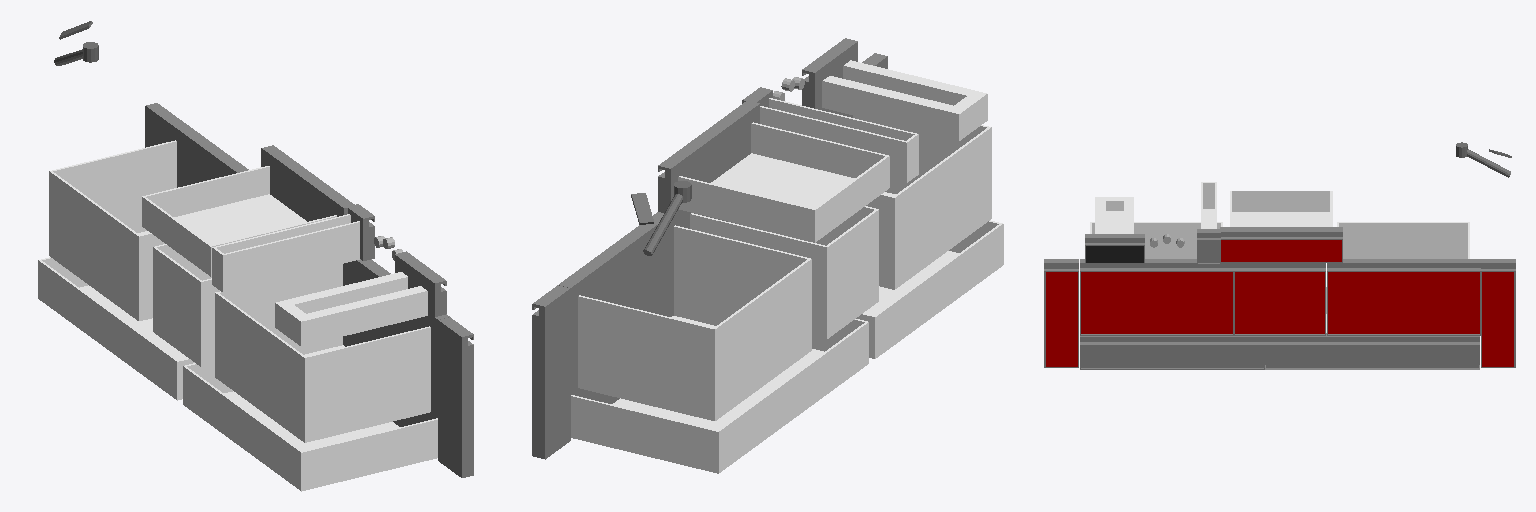
--- Facts derived from the render (not from the file) ---
Views: 3 orthographic renders of the robot side by side, from view 1: azimuth 30°, elevation 25°; view 2: azimuth 150°, elevation 25°; view 3: azimuth 270°, elevation 25°.
Model room602-kitchen with 19 links and 18 joints (7 revolute, 11 prismatic), rooted at ROOT_link, posed every joint at zero.
Links seen in each view (by area): view 1: ROOM602-KITCHEN-BODYSET6_link, ROOM602-KITCHEN-BODYSET8_link, ROOM602-KITCHEN-BODYSET10_link, ROOM602-KITCHEN-BODYSET2_link, ROOM602-KITCHEN-BODYSET11_link, ROOM602-KITCHEN-BODYSET9_link, ROOM602-KITCHEN-BODYSET3_link, ROOM602-KITCHEN-BODYSET7_link, ROOM602-KITCHEN-BODYSET4_link, ROOM602-KITCHEN-BODYSET5_link, TAP-TUBE_link; view 2: ROOM602-KITCHEN-BODYSET8_link, ROOM602-KITCHEN-BODYSET10_link, ROOM602-KITCHEN-BODYSET3_link, ROOM602-KITCHEN-BODYSET6_link, ROOM602-KITCHEN-BODYSET11_link, ROOM602-KITCHEN-BODYSET7_link, ROOM602-KITCHEN-BODYSET2_link, ROOM602-KITCHEN-BODYSET5_link, ROOM602-KITCHEN-BODYSET9_link, TAP-TUBE_link; view 3: ROOM602-KITCHEN-BODYSET8_link, ROOM602-KITCHEN-BODYSET6_link, ROOM602-KITCHEN-BODYSET10_link, ROOM602-KITCHEN-BODYSET3_link, ROOM602-KITCHEN-BODYSET7_link, ROOM602-KITCHEN-BODYSET2_link, ROOM602-KITCHEN-BODYSET4_link, ROOM602-KITCHEN-BODYSET5_link, ROOM602-KITCHEN-BODYSET11_link, ROOM602-KITCHEN-BODYSET9_link.
Link boxes in pixels (x1,y1,x2,y2): ROOM602-KITCHEN-BODYSET6_link: [215, 259, 449, 442]; ROOM602-KITCHEN-BODYSET8_link: [49, 120, 248, 320]; ROOM602-KITCHEN-BODYSET10_link: [142, 145, 355, 276]; ROOM602-KITCHEN-BODYSET2_link: [183, 363, 437, 491]; ROOM602-KITCHEN-BODYSET11_link: [275, 251, 446, 346]; ROOM602-KITCHEN-BODYSET9_link: [212, 204, 374, 292]; ROOM602-KITCHEN-BODYSET3_link: [38, 257, 194, 400]; ROOM602-KITCHEN-BODYSET7_link: [153, 244, 219, 366]; ROOM602-KITCHEN-BODYSET4_link: [438, 317, 473, 477]; ROOM602-KITCHEN-BODYSET5_link: [145, 103, 179, 147]; TAP-TUBE_link: [54, 42, 98, 65]; ROOM602-KITCHEN-BODYSET8_link: [559, 209, 811, 420]; ROOM602-KITCHEN-BODYSET10_link: [658, 100, 889, 242]; ROOM602-KITCHEN-BODYSET3_link: [571, 319, 868, 473]; ROOM602-KITCHEN-BODYSET6_link: [817, 107, 991, 289]; ROOM602-KITCHEN-BODYSET11_link: [802, 38, 987, 140]; ROOM602-KITCHEN-BODYSET7_link: [683, 206, 878, 338]; ROOM602-KITCHEN-BODYSET2_link: [856, 220, 1003, 358]; ROOM602-KITCHEN-BODYSET5_link: [532, 285, 570, 459]; ROOM602-KITCHEN-BODYSET9_link: [742, 87, 918, 182]; TAP-TUBE_link: [643, 181, 691, 255]; ROOM602-KITCHEN-BODYSET8_link: [1327, 222, 1480, 335]; ROOM602-KITCHEN-BODYSET6_link: [1080, 222, 1233, 335]; ROOM602-KITCHEN-BODYSET10_link: [1220, 191, 1342, 262]; ROOM602-KITCHEN-BODYSET3_link: [1265, 287, 1479, 369]; ROOM602-KITCHEN-BODYSET7_link: [1234, 263, 1325, 335]; ROOM602-KITCHEN-BODYSET2_link: [1080, 336, 1264, 369]; ROOM602-KITCHEN-BODYSET4_link: [1044, 259, 1078, 367]; ROOM602-KITCHEN-BODYSET5_link: [1481, 259, 1515, 367]; ROOM602-KITCHEN-BODYSET11_link: [1085, 197, 1144, 262]; ROOM602-KITCHEN-BODYSET9_link: [1197, 182, 1220, 263].
Size in the robot's own frame: 0.625 by 2.3 by 1.01 metres.
18 mesh visuals loaded from 19 distinct referenced files (18 Collada DAE); not drawn: 1 (reference not matched to a file when rendering).

robot.urdf — room602-kitchen:
<?xml version="1.0"?>
<robot name="room602-kitchen"
       xmlns:xi="http://www.w3.org/2001/XInclude">
  <gazebo>
    <static>false</static>
  </gazebo>
  <link name="ROOT_link">
    <visual>
      <origin xyz="0 0 0" rpy="0 -0 0"/>
      <geometry>
        <mesh filename="model://room602-kitchen/meshes/ROOT_link_mesh.dae" scale="1 1 1" />
      </geometry>
    </visual>
    <collision>
      <origin xyz="0 0 0" rpy="0 -0 0"/>
      <geometry>
        <mesh filename="model://room602-kitchen/meshes/ROOT_link_mesh.dae" scale="1 1 1" />
      </geometry>
    </collision>
    <inertial>
      <mass value="0.001" />
      <origin xyz="0 0 0" rpy="0 -0 0"/>
      <inertia ixx="1e-03" ixy="0" ixz="0" iyy="1e-03" iyz="0" izz="1e-03"/>
    </inertial>
  </link>
  <gazebo reference="ROOT_link">
    <mu1>0.9</mu1>
    <mu2>0.9</mu2>
  </gazebo>
  <link name="ROOM602-KITCHEN-BODYSET16_link">
    <visual>
      <origin xyz="0.34 -0.485 0.73" rpy="0 -0 0"/>
      <geometry>
        <mesh filename="model://room602-kitchen/meshes/ROOM602-KITCHEN-BODYSET16_link_mesh.dae" scale="1 1 1" />
      </geometry>
    </visual>
    <collision>
      <origin xyz="0.34 -0.485 0.73" rpy="0 -0 0"/>
      <geometry>
        <mesh filename="model://room602-kitchen/meshes/ROOM602-KITCHEN-BODYSET16_link_mesh.dae" scale="1 1 1" />
      </geometry>
    </collision>
    <inertial>
      <mass value="0.001" />
      <origin xyz="0 0 0" rpy="0 -0 0"/>
      <inertia ixx="1e-03" ixy="0" ixz="0" iyy="1e-03" iyz="0" izz="1e-03"/>
    </inertial>
  </link>
  <gazebo reference="ROOM602-KITCHEN-BODYSET16_link">
    <mu1>0.9</mu1>
    <mu2>0.9</mu2>
  </gazebo>
  <link name="ROOM602-KITCHEN-BODYSET17_link">
    <visual>
      <origin xyz="0.005 0 0" rpy="1.5708 1.5708 -1.5708"/>
      <geometry>
        <mesh filename="model://room602-kitchen/meshes/ROOM602-KITCHEN-BODYSET17_link_mesh.dae" scale="1 1 1" />
      </geometry>
    </visual>
    <collision>
      <origin xyz="0.005 0 0" rpy="1.5708 1.5708 -1.5708"/>
      <geometry>
        <mesh filename="model://room602-kitchen/meshes/ROOM602-KITCHEN-BODYSET17_link_mesh.dae" scale="1 1 1" />
      </geometry>
    </collision>
    <inertial>
      <mass value="0.001" />
      <origin xyz="0 0 0" rpy="0 -0 0"/>
      <inertia ixx="1e-09" ixy="1.30934e-41" ixz="0" iyy="1e-09" iyz="-2.29589e-41" izz="1e-09"/>
    </inertial>
  </link>
  <gazebo reference="ROOM602-KITCHEN-BODYSET17_link">
    <mu1>0.9</mu1>
    <mu2>0.9</mu2>
  </gazebo>
  <link name="ROOM602-KITCHEN-BODYSET14_link">
    <visual>
      <origin xyz="0.34 -0.55 0.75" rpy="0 -0 0"/>
      <geometry>
        <mesh filename="model://room602-kitchen/meshes/ROOM602-KITCHEN-BODYSET14_link_mesh.dae" scale="1 1 1" />
      </geometry>
    </visual>
    <collision>
      <origin xyz="0.34 -0.55 0.75" rpy="0 -0 0"/>
      <geometry>
        <mesh filename="model://room602-kitchen/meshes/ROOM602-KITCHEN-BODYSET14_link_mesh.dae" scale="1 1 1" />
      </geometry>
    </collision>
    <inertial>
      <mass value="0.001" />
      <origin xyz="0 0 0" rpy="0 -0 0"/>
      <inertia ixx="1e-03" ixy="0" ixz="0" iyy="1e-03" iyz="0" izz="1e-03"/>
    </inertial>
  </link>
  <gazebo reference="ROOM602-KITCHEN-BODYSET14_link">
    <mu1>0.9</mu1>
    <mu2>0.9</mu2>
  </gazebo>
  <link name="ROOM602-KITCHEN-BODYSET15_link">
    <visual>
      <origin xyz="0.005 0 0" rpy="1.5708 1.5708 -1.5708"/>
      <geometry>
        <mesh filename="model://room602-kitchen/meshes/ROOM602-KITCHEN-BODYSET15_link_mesh.dae" scale="1 1 1" />
      </geometry>
    </visual>
    <collision>
      <origin xyz="0.005 0 0" rpy="1.5708 1.5708 -1.5708"/>
      <geometry>
        <mesh filename="model://room602-kitchen/meshes/ROOM602-KITCHEN-BODYSET15_link_mesh.dae" scale="1 1 1" />
      </geometry>
    </collision>
    <inertial>
      <mass value="0.001" />
      <origin xyz="0 0 0" rpy="0 -0 0"/>
      <inertia ixx="1e-09" ixy="1.30934e-41" ixz="0" iyy="1e-09" iyz="-2.29589e-41" izz="1e-09"/>
    </inertial>
  </link>
  <gazebo reference="ROOM602-KITCHEN-BODYSET15_link">
    <mu1>0.9</mu1>
    <mu2>0.9</mu2>
  </gazebo>
  <link name="ROOM602-KITCHEN-BODYSET12_link">
    <visual>
      <origin xyz="0.34 -0.615 0.73" rpy="0 -0 0"/>
      <geometry>
        <mesh filename="model://room602-kitchen/meshes/ROOM602-KITCHEN-BODYSET12_link_mesh.dae" scale="1 1 1" />
      </geometry>
    </visual>
    <collision>
      <origin xyz="0.34 -0.615 0.73" rpy="0 -0 0"/>
      <geometry>
        <mesh filename="model://room602-kitchen/meshes/ROOM602-KITCHEN-BODYSET12_link_mesh.dae" scale="1 1 1" />
      </geometry>
    </collision>
    <inertial>
      <mass value="0.001" />
      <origin xyz="0 0 0" rpy="0 -0 0"/>
      <inertia ixx="1e-03" ixy="0" ixz="0" iyy="1e-03" iyz="0" izz="1e-03"/>
    </inertial>
  </link>
  <gazebo reference="ROOM602-KITCHEN-BODYSET12_link">
    <mu1>0.9</mu1>
    <mu2>0.9</mu2>
  </gazebo>
  <link name="ROOM602-KITCHEN-BODYSET13_link">
    <visual>
      <origin xyz="0.005 0 0" rpy="1.5708 1.5708 -1.5708"/>
      <geometry>
        <mesh filename="model://room602-kitchen/meshes/ROOM602-KITCHEN-BODYSET13_link_mesh.dae" scale="1 1 1" />
      </geometry>
    </visual>
    <collision>
      <origin xyz="0.005 0 0" rpy="1.5708 1.5708 -1.5708"/>
      <geometry>
        <mesh filename="model://room602-kitchen/meshes/ROOM602-KITCHEN-BODYSET13_link_mesh.dae" scale="1 1 1" />
      </geometry>
    </collision>
    <inertial>
      <mass value="0.001" />
      <origin xyz="0 0 0" rpy="0 -0 0"/>
      <inertia ixx="1e-09" ixy="1.30934e-41" ixz="0" iyy="1e-09" iyz="-2.29589e-41" izz="1e-09"/>
    </inertial>
  </link>
  <gazebo reference="ROOM602-KITCHEN-BODYSET13_link">
    <mu1>0.9</mu1>
    <mu2>0.9</mu2>
  </gazebo>
  <link name="ROOM602-KITCHEN-BODYSET7_link">
    <visual>
      <origin xyz="0.025 0.001 0.405" rpy="0 -0 0"/>
      <geometry>
        <mesh filename="model://room602-kitchen/meshes/ROOM602-KITCHEN-BODYSET7_link_mesh.dae" scale="1 1 1" />
      </geometry>
    </visual>
    <collision>
      <origin xyz="0.025 0.001 0.405" rpy="0 -0 0"/>
      <geometry>
        <mesh filename="model://room602-kitchen/meshes/ROOM602-KITCHEN-BODYSET7_link_mesh.dae" scale="1 1 1" />
      </geometry>
    </collision>
    <inertial>
      <mass value="0.001" />
      <origin xyz="0 0 0" rpy="0 -0 0"/>
      <inertia ixx="1e-03" ixy="0" ixz="0" iyy="1e-03" iyz="0" izz="1e-03"/>
    </inertial>
  </link>
  <gazebo reference="ROOM602-KITCHEN-BODYSET7_link">
    <mu1>0.9</mu1>
    <mu2>0.9</mu2>
  </gazebo>
  <link name="ROOM602-KITCHEN-BODYSET10_link">
    <visual>
      <origin xyz="0.025 0.006 0.685" rpy="0 -0 0"/>
      <geometry>
        <mesh filename="model://room602-kitchen/meshes/ROOM602-KITCHEN-BODYSET10_link_mesh.dae" scale="1 1 1" />
      </geometry>
    </visual>
    <collision>
      <origin xyz="0.025 0.006 0.685" rpy="0 -0 0"/>
      <geometry>
        <mesh filename="model://room602-kitchen/meshes/ROOM602-KITCHEN-BODYSET10_link_mesh.dae" scale="1 1 1" />
      </geometry>
    </collision>
    <inertial>
      <mass value="0.001" />
      <origin xyz="0 0 0" rpy="0 -0 0"/>
      <inertia ixx="1e-03" ixy="0" ixz="0" iyy="1e-03" iyz="0" izz="1e-03"/>
    </inertial>
  </link>
  <gazebo reference="ROOM602-KITCHEN-BODYSET10_link">
    <mu1>0.9</mu1>
    <mu2>0.9</mu2>
  </gazebo>
  <link name="ROOM602-KITCHEN-BODYSET11_link">
    <visual>
      <origin xyz="0.025 -0.805 0.66" rpy="0 -0 0"/>
      <geometry>
        <mesh filename="model://room602-kitchen/meshes/ROOM602-KITCHEN-BODYSET11_link_mesh.dae" scale="1 1 1" />
      </geometry>
    </visual>
    <collision>
      <origin xyz="0.025 -0.805 0.66" rpy="0 -0 0"/>
      <geometry>
        <mesh filename="model://room602-kitchen/meshes/ROOM602-KITCHEN-BODYSET11_link_mesh.dae" scale="1 1 1" />
      </geometry>
    </collision>
    <inertial>
      <mass value="0.001" />
      <origin xyz="0 0 0" rpy="0 -0 0"/>
      <inertia ixx="1e-03" ixy="0" ixz="0" iyy="1e-03" iyz="0" izz="1e-03"/>
    </inertial>
  </link>
  <gazebo reference="ROOM602-KITCHEN-BODYSET11_link">
    <mu1>0.9</mu1>
    <mu2>0.9</mu2>
  </gazebo>
  <link name="ROOM602-KITCHEN-BODYSET2_link">
    <visual>
      <origin xyz="0.025 -0.524 0.137" rpy="0 -0 0"/>
      <geometry>
        <mesh filename="model://room602-kitchen/meshes/ROOM602-KITCHEN-BODYSET2_link_mesh.dae" scale="1 1 1" />
      </geometry>
    </visual>
    <collision>
      <origin xyz="0.025 -0.524 0.137" rpy="0 -0 0"/>
      <geometry>
        <mesh filename="model://room602-kitchen/meshes/ROOM602-KITCHEN-BODYSET2_link_mesh.dae" scale="1 1 1" />
      </geometry>
    </collision>
    <inertial>
      <mass value="0.001" />
      <origin xyz="0 0 0" rpy="0 -0 0"/>
      <inertia ixx="1e-03" ixy="0" ixz="0" iyy="1e-03" iyz="0" izz="1e-03"/>
    </inertial>
  </link>
  <gazebo reference="ROOM602-KITCHEN-BODYSET2_link">
    <mu1>0.9</mu1>
    <mu2>0.9</mu2>
  </gazebo>
  <link name="ROOM602-KITCHEN-BODYSET6_link">
    <visual>
      <origin xyz="0.025 -0.601 0.405" rpy="0 -0 0"/>
      <geometry>
        <mesh filename="model://room602-kitchen/meshes/ROOM602-KITCHEN-BODYSET6_link_mesh.dae" scale="1 1 1" />
      </geometry>
    </visual>
    <collision>
      <origin xyz="0.025 -0.601 0.405" rpy="0 -0 0"/>
      <geometry>
        <mesh filename="model://room602-kitchen/meshes/ROOM602-KITCHEN-BODYSET6_link_mesh.dae" scale="1 1 1" />
      </geometry>
    </collision>
    <inertial>
      <mass value="0.001" />
      <origin xyz="0 0 0" rpy="0 -0 0"/>
      <inertia ixx="1e-03" ixy="0" ixz="0" iyy="1e-03" iyz="0" izz="1e-03"/>
    </inertial>
  </link>
  <gazebo reference="ROOM602-KITCHEN-BODYSET6_link">
    <mu1>0.9</mu1>
    <mu2>0.9</mu2>
  </gazebo>
  <link name="ROOM602-KITCHEN-BODYSET4_link">
    <visual>
      <origin xyz="0.315 -1.123 0.06" rpy="0 -0 0"/>
      <geometry>
        <mesh filename="model://room602-kitchen/meshes/ROOM602-KITCHEN-BODYSET4_link_mesh.dae" scale="1 1 1" />
      </geometry>
    </visual>
    <collision>
      <origin xyz="0.315 -1.123 0.06" rpy="0 -0 0"/>
      <geometry>
        <mesh filename="model://room602-kitchen/meshes/ROOM602-KITCHEN-BODYSET4_link_mesh.dae" scale="1 1 1" />
      </geometry>
    </collision>
    <inertial>
      <mass value="0.001" />
      <origin xyz="0 0 0" rpy="0 -0 0"/>
      <inertia ixx="1e-03" ixy="0" ixz="0" iyy="1e-03" iyz="0" izz="1e-03"/>
    </inertial>
  </link>
  <gazebo reference="ROOM602-KITCHEN-BODYSET4_link">
    <mu1>0.9</mu1>
    <mu2>0.9</mu2>
  </gazebo>
  <link name="ROOM602-KITCHEN-BODYSET9_link">
    <visual>
      <origin xyz="0.025 -0.346 0.7" rpy="0 -0 0"/>
      <geometry>
        <mesh filename="model://room602-kitchen/meshes/ROOM602-KITCHEN-BODYSET9_link_mesh.dae" scale="1 1 1" />
      </geometry>
    </visual>
    <collision>
      <origin xyz="0.025 -0.346 0.7" rpy="0 -0 0"/>
      <geometry>
        <mesh filename="model://room602-kitchen/meshes/ROOM602-KITCHEN-BODYSET9_link_mesh.dae" scale="1 1 1" />
      </geometry>
    </collision>
    <inertial>
      <mass value="0.001" />
      <origin xyz="0 0 0" rpy="0 -0 0"/>
      <inertia ixx="1e-03" ixy="0" ixz="0" iyy="1e-03" iyz="0" izz="1e-03"/>
    </inertial>
  </link>
  <gazebo reference="ROOM602-KITCHEN-BODYSET9_link">
    <mu1>0.9</mu1>
    <mu2>0.9</mu2>
  </gazebo>
  <link name="ROOM602-KITCHEN-BODYSET3_link">
    <visual>
      <origin xyz="0.025 0.451 0.137" rpy="0 -0 0"/>
      <geometry>
        <mesh filename="model://room602-kitchen/meshes/ROOM602-KITCHEN-BODYSET3_link_mesh.dae" scale="1 1 1" />
      </geometry>
    </visual>
    <collision>
      <origin xyz="0.025 0.451 0.137" rpy="0 -0 0"/>
      <geometry>
        <mesh filename="model://room602-kitchen/meshes/ROOM602-KITCHEN-BODYSET3_link_mesh.dae" scale="1 1 1" />
      </geometry>
    </collision>
    <inertial>
      <mass value="0.001" />
      <origin xyz="0 0 0" rpy="0 -0 0"/>
      <inertia ixx="1e-03" ixy="0" ixz="0" iyy="1e-03" iyz="0" izz="1e-03"/>
    </inertial>
  </link>
  <gazebo reference="ROOM602-KITCHEN-BODYSET3_link">
    <mu1>0.9</mu1>
    <mu2>0.9</mu2>
  </gazebo>
  <link name="ROOM602-KITCHEN-BODYSET8_link">
    <visual>
      <origin xyz="0.025 0.603 0.405" rpy="0 -0 0"/>
      <geometry>
        <mesh filename="model://room602-kitchen/meshes/ROOM602-KITCHEN-BODYSET8_link_mesh.dae" scale="1 1 1" />
      </geometry>
    </visual>
    <collision>
      <origin xyz="0.025 0.603 0.405" rpy="0 -0 0"/>
      <geometry>
        <mesh filename="model://room602-kitchen/meshes/ROOM602-KITCHEN-BODYSET8_link_mesh.dae" scale="1 1 1" />
      </geometry>
    </collision>
    <inertial>
      <mass value="0.001" />
      <origin xyz="0 0 0" rpy="0 -0 0"/>
      <inertia ixx="1e-03" ixy="0" ixz="0" iyy="1e-03" iyz="0" izz="1e-03"/>
    </inertial>
  </link>
  <gazebo reference="ROOM602-KITCHEN-BODYSET8_link">
    <mu1>0.9</mu1>
    <mu2>0.9</mu2>
  </gazebo>
  <link name="ROOM602-KITCHEN-BODYSET5_link">
    <visual>
      <origin xyz="0.315 1.123 0.06" rpy="0 -0 0"/>
      <geometry>
        <mesh filename="model://room602-kitchen/meshes/ROOM602-KITCHEN-BODYSET5_link_mesh.dae" scale="1 1 1" />
      </geometry>
    </visual>
    <collision>
      <origin xyz="0.315 1.123 0.06" rpy="0 -0 0"/>
      <geometry>
        <mesh filename="model://room602-kitchen/meshes/ROOM602-KITCHEN-BODYSET5_link_mesh.dae" scale="1 1 1" />
      </geometry>
    </collision>
    <inertial>
      <mass value="0.001" />
      <origin xyz="0 0 0" rpy="0 -0 0"/>
      <inertia ixx="1e-03" ixy="0" ixz="0" iyy="1e-03" iyz="0" izz="1e-03"/>
    </inertial>
  </link>
  <gazebo reference="ROOM602-KITCHEN-BODYSET5_link">
    <mu1>0.9</mu1>
    <mu2>0.9</mu2>
  </gazebo>
  <link name="TAP-HANDLE-BODY_link">
    <visual>
      <origin xyz="-0.0826664 1.11267 1.00531" rpy="1.26878e-07 -0.488693 -0.785399"/>
      <geometry>
        <mesh filename="model://room602-kitchen/meshes/TAP-HANDLE-BODY_link_mesh.dae" scale="1 1 1" />
      </geometry>
    </visual>
    <collision>
      <origin xyz="-0.0826664 1.11267 1.00531" rpy="1.26878e-07 -0.488693 -0.785399"/>
      <geometry>
        <mesh filename="model://room602-kitchen/meshes/TAP-HANDLE-BODY_link_mesh.dae" scale="1 1 1" />
      </geometry>
    </collision>
    <inertial>
      <mass value="0.001" />
      <origin xyz="0 0 0" rpy="0 -0 0"/>
      <inertia ixx="1e-09" ixy="-1.40233e-32" ixz="0" iyy="1e-09" iyz="-9.86076e-32" izz="1e-09"/>
    </inertial>
  </link>
  <gazebo reference="TAP-HANDLE-BODY_link">
    <mu1>0.9</mu1>
    <mu2>0.9</mu2>
  </gazebo>
  <link name="TAP-TUBE_link">
    <visual>
      <origin xyz="-0.09 1.12 0.84" rpy="0 0 -1.5708"/>
      <geometry>
        <mesh filename="model://room602-kitchen/meshes/TAP-TUBE_link_mesh.dae" scale="1 1 1" />
      </geometry>
    </visual>
    <collision>
      <origin xyz="-0.09 1.12 0.84" rpy="0 0 -1.5708"/>
      <geometry>
        <mesh filename="model://room602-kitchen/meshes/TAP-TUBE_link_mesh.dae" scale="1 1 1" />
      </geometry>
    </collision>
    <inertial>
      <mass value="0.001" />
      <origin xyz="0 0 0" rpy="0 -0 0"/>
      <inertia ixx="1e-09" ixy="-7.4988e-42" ixz="0" iyy="1e-09" iyz="0" izz="1e-09"/>
    </inertial>
  </link>
  <gazebo reference="TAP-TUBE_link">
    <mu1>0.9</mu1>
    <mu2>0.9</mu2>
  </gazebo>
  <joint name="BUTTON0-BODY-JOINT-1" type="prismatic">
    <parent link="ROOT_link"/>
    <child  link="ROOM602-KITCHEN-BODYSET16_link"/>
    <origin xyz="0.34 -0.485 0.73" rpy="0 -0 0 "/>
    <axis   xyz="1 0 0"/>
    <limit lower="-0.09" upper="0.09" effort="100" velocity="0.01" />
    <dynamics damping="0.2" friction="0" />
  </joint>
  <transmission type="pr2_mechanism_model/SimpleTransmission" name="BUTTON0-BODY-JOINT-1_trans" >
    <actuator name="BUTTON0-BODY-JOINT-1_motor" />
    <joint name="BUTTON0-BODY-JOINT-1" />
    <mechanicalReduction>1</mechanicalReduction>
  </transmission>
  <gazebo reference="BUTTON0-BODY-JOINT-1">
    <cfmDamping>0.4</cfmDamping>
  </gazebo>
  <joint name="BUTTON0-BODY-JOINT-2" type="revolute">
    <parent link="ROOM602-KITCHEN-BODYSET16_link"/>
    <child  link="ROOM602-KITCHEN-BODYSET17_link"/>
    <origin xyz="0.005 0 0" rpy="1.5708 1.5708 -1.5708 "/>
    <axis   xyz="0 0 1"/>
    <limit lower="-1.5708" upper="1.5708" effort="100" velocity="0.5" />
    <dynamics damping="0.2" friction="0" />
  </joint>
  <transmission type="pr2_mechanism_model/SimpleTransmission" name="BUTTON0-BODY-JOINT-2_trans" >
    <actuator name="BUTTON0-BODY-JOINT-2_motor" />
    <joint name="BUTTON0-BODY-JOINT-2" />
    <mechanicalReduction>1</mechanicalReduction>
  </transmission>
  <gazebo reference="BUTTON0-BODY-JOINT-2">
    <cfmDamping>0.4</cfmDamping>
  </gazebo>
  <joint name="BUTTON1-BODY-JOINT-1" type="prismatic">
    <parent link="ROOT_link"/>
    <child  link="ROOM602-KITCHEN-BODYSET14_link"/>
    <origin xyz="0.34 -0.55 0.75" rpy="0 -0 0 "/>
    <axis   xyz="1 0 0"/>
    <limit lower="-0.09" upper="0.09" effort="100" velocity="0.01" />
    <dynamics damping="0.2" friction="0" />
  </joint>
  <transmission type="pr2_mechanism_model/SimpleTransmission" name="BUTTON1-BODY-JOINT-1_trans" >
    <actuator name="BUTTON1-BODY-JOINT-1_motor" />
    <joint name="BUTTON1-BODY-JOINT-1" />
    <mechanicalReduction>1</mechanicalReduction>
  </transmission>
  <gazebo reference="BUTTON1-BODY-JOINT-1">
    <cfmDamping>0.4</cfmDamping>
  </gazebo>
  <joint name="BUTTON1-BODY-JOINT-2" type="revolute">
    <parent link="ROOM602-KITCHEN-BODYSET14_link"/>
    <child  link="ROOM602-KITCHEN-BODYSET15_link"/>
    <origin xyz="0.005 0 0" rpy="1.5708 1.5708 -1.5708 "/>
    <axis   xyz="0 0 1"/>
    <limit lower="-1.5708" upper="1.5708" effort="100" velocity="0.5" />
    <dynamics damping="0.2" friction="0" />
  </joint>
  <transmission type="pr2_mechanism_model/SimpleTransmission" name="BUTTON1-BODY-JOINT-2_trans" >
    <actuator name="BUTTON1-BODY-JOINT-2_motor" />
    <joint name="BUTTON1-BODY-JOINT-2" />
    <mechanicalReduction>1</mechanicalReduction>
  </transmission>
  <gazebo reference="BUTTON1-BODY-JOINT-2">
    <cfmDamping>0.4</cfmDamping>
  </gazebo>
  <joint name="BUTTON2-BODY-JOINT-1" type="prismatic">
    <parent link="ROOT_link"/>
    <child  link="ROOM602-KITCHEN-BODYSET12_link"/>
    <origin xyz="0.34 -0.615 0.73" rpy="0 -0 0 "/>
    <axis   xyz="1 0 0"/>
    <limit lower="-0.09" upper="0.09" effort="100" velocity="0.01" />
    <dynamics damping="0.2" friction="0" />
  </joint>
  <transmission type="pr2_mechanism_model/SimpleTransmission" name="BUTTON2-BODY-JOINT-1_trans" >
    <actuator name="BUTTON2-BODY-JOINT-1_motor" />
    <joint name="BUTTON2-BODY-JOINT-1" />
    <mechanicalReduction>1</mechanicalReduction>
  </transmission>
  <gazebo reference="BUTTON2-BODY-JOINT-1">
    <cfmDamping>0.4</cfmDamping>
  </gazebo>
  <joint name="BUTTON2-BODY-JOINT-2" type="revolute">
    <parent link="ROOM602-KITCHEN-BODYSET12_link"/>
    <child  link="ROOM602-KITCHEN-BODYSET13_link"/>
    <origin xyz="0.005 0 0" rpy="1.5708 1.5708 -1.5708 "/>
    <axis   xyz="0 0 1"/>
    <limit lower="-1.5708" upper="1.5708" effort="100" velocity="0.5" />
    <dynamics damping="0.2" friction="0" />
  </joint>
  <transmission type="pr2_mechanism_model/SimpleTransmission" name="BUTTON2-BODY-JOINT-2_trans" >
    <actuator name="BUTTON2-BODY-JOINT-2_motor" />
    <joint name="BUTTON2-BODY-JOINT-2" />
    <mechanicalReduction>1</mechanicalReduction>
  </transmission>
  <gazebo reference="BUTTON2-BODY-JOINT-2">
    <cfmDamping>0.4</cfmDamping>
  </gazebo>
  <joint name="CENTER-MIDDLE-DRAWER" type="prismatic">
    <parent link="ROOT_link"/>
    <child  link="ROOM602-KITCHEN-BODYSET7_link"/>
    <origin xyz="0.025 0.001 0.405" rpy="0 -0 0 "/>
    <axis   xyz="1 0 0"/>
    <limit lower="0" upper="0.63" effort="100" velocity="0.01" />
    <dynamics damping="0.2" friction="0" />
  </joint>
  <transmission type="pr2_mechanism_model/SimpleTransmission" name="CENTER-MIDDLE-DRAWER_trans" >
    <actuator name="CENTER-MIDDLE-DRAWER_motor" />
    <joint name="CENTER-MIDDLE-DRAWER" />
    <mechanicalReduction>1</mechanicalReduction>
  </transmission>
  <gazebo reference="CENTER-MIDDLE-DRAWER">
    <cfmDamping>0.4</cfmDamping>
  </gazebo>
  <joint name="CENTER-TOP-DRAWER" type="prismatic">
    <parent link="ROOT_link"/>
    <child  link="ROOM602-KITCHEN-BODYSET10_link"/>
    <origin xyz="0.025 0.006 0.685" rpy="0 -0 0 "/>
    <axis   xyz="1 0 0"/>
    <limit lower="0" upper="0.63" effort="100" velocity="0.01" />
    <dynamics damping="0.2" friction="0" />
  </joint>
  <transmission type="pr2_mechanism_model/SimpleTransmission" name="CENTER-TOP-DRAWER_trans" >
    <actuator name="CENTER-TOP-DRAWER_motor" />
    <joint name="CENTER-TOP-DRAWER" />
    <mechanicalReduction>1</mechanicalReduction>
  </transmission>
  <gazebo reference="CENTER-TOP-DRAWER">
    <cfmDamping>0.4</cfmDamping>
  </gazebo>
  <joint name="DRAWER" type="prismatic">
    <parent link="ROOT_link"/>
    <child  link="ROOM602-KITCHEN-BODYSET11_link"/>
    <origin xyz="0.025 -0.805 0.66" rpy="0 -0 0 "/>
    <axis   xyz="1 0 0"/>
    <limit lower="0" upper="0.63" effort="100" velocity="0.01" />
    <dynamics damping="0.2" friction="0" />
  </joint>
  <transmission type="pr2_mechanism_model/SimpleTransmission" name="DRAWER_trans" >
    <actuator name="DRAWER_motor" />
    <joint name="DRAWER" />
    <mechanicalReduction>1</mechanicalReduction>
  </transmission>
  <gazebo reference="DRAWER">
    <cfmDamping>0.4</cfmDamping>
  </gazebo>
  <joint name="LEFT-BOTTOM-DRAWER" type="prismatic">
    <parent link="ROOT_link"/>
    <child  link="ROOM602-KITCHEN-BODYSET2_link"/>
    <origin xyz="0.025 -0.524 0.137" rpy="0 -0 0 "/>
    <axis   xyz="1 0 0"/>
    <limit lower="0" upper="0.63" effort="100" velocity="0.01" />
    <dynamics damping="0.2" friction="0" />
  </joint>
  <transmission type="pr2_mechanism_model/SimpleTransmission" name="LEFT-BOTTOM-DRAWER_trans" >
    <actuator name="LEFT-BOTTOM-DRAWER_motor" />
    <joint name="LEFT-BOTTOM-DRAWER" />
    <mechanicalReduction>1</mechanicalReduction>
  </transmission>
  <gazebo reference="LEFT-BOTTOM-DRAWER">
    <cfmDamping>0.4</cfmDamping>
  </gazebo>
  <joint name="LEFT-MIDDLE-DRAWER" type="prismatic">
    <parent link="ROOT_link"/>
    <child  link="ROOM602-KITCHEN-BODYSET6_link"/>
    <origin xyz="0.025 -0.601 0.405" rpy="0 -0 0 "/>
    <axis   xyz="1 0 0"/>
    <limit lower="0" upper="0.63" effort="100" velocity="0.01" />
    <dynamics damping="0.2" friction="0" />
  </joint>
  <transmission type="pr2_mechanism_model/SimpleTransmission" name="LEFT-MIDDLE-DRAWER_trans" >
    <actuator name="LEFT-MIDDLE-DRAWER_motor" />
    <joint name="LEFT-MIDDLE-DRAWER" />
    <mechanicalReduction>1</mechanicalReduction>
  </transmission>
  <gazebo reference="LEFT-MIDDLE-DRAWER">
    <cfmDamping>0.4</cfmDamping>
  </gazebo>
  <joint name="LEFT-SIDE-DOOR" type="revolute">
    <parent link="ROOT_link"/>
    <child  link="ROOM602-KITCHEN-BODYSET4_link"/>
    <origin xyz="0.315 -1.123 0.06" rpy="0 -0 0 "/>
    <axis   xyz="0 0 -1"/>
    <limit lower="0" upper="1.5708" effort="100" velocity="0.5" />
    <dynamics damping="0.2" friction="0" />
  </joint>
  <transmission type="pr2_mechanism_model/SimpleTransmission" name="LEFT-SIDE-DOOR_trans" >
    <actuator name="LEFT-SIDE-DOOR_motor" />
    <joint name="LEFT-SIDE-DOOR" />
    <mechanicalReduction>1</mechanicalReduction>
  </transmission>
  <gazebo reference="LEFT-SIDE-DOOR">
    <cfmDamping>0.4</cfmDamping>
  </gazebo>
  <joint name="LEFT-TOP-DRAWER" type="prismatic">
    <parent link="ROOT_link"/>
    <child  link="ROOM602-KITCHEN-BODYSET9_link"/>
    <origin xyz="0.025 -0.346 0.7" rpy="0 -0 0 "/>
    <axis   xyz="1 0 0"/>
    <limit lower="0" upper="0.63" effort="100" velocity="0.01" />
    <dynamics damping="0.2" friction="0" />
  </joint>
  <transmission type="pr2_mechanism_model/SimpleTransmission" name="LEFT-TOP-DRAWER_trans" >
    <actuator name="LEFT-TOP-DRAWER_motor" />
    <joint name="LEFT-TOP-DRAWER" />
    <mechanicalReduction>1</mechanicalReduction>
  </transmission>
  <gazebo reference="LEFT-TOP-DRAWER">
    <cfmDamping>0.4</cfmDamping>
  </gazebo>
  <joint name="RIGHT-BOTTOM-DRAWER" type="prismatic">
    <parent link="ROOT_link"/>
    <child  link="ROOM602-KITCHEN-BODYSET3_link"/>
    <origin xyz="0.025 0.451 0.137" rpy="0 -0 0 "/>
    <axis   xyz="1 0 0"/>
    <limit lower="0" upper="0.63" effort="100" velocity="0.01" />
    <dynamics damping="0.2" friction="0" />
  </joint>
  <transmission type="pr2_mechanism_model/SimpleTransmission" name="RIGHT-BOTTOM-DRAWER_trans" >
    <actuator name="RIGHT-BOTTOM-DRAWER_motor" />
    <joint name="RIGHT-BOTTOM-DRAWER" />
    <mechanicalReduction>1</mechanicalReduction>
  </transmission>
  <gazebo reference="RIGHT-BOTTOM-DRAWER">
    <cfmDamping>0.4</cfmDamping>
  </gazebo>
  <joint name="RIGHT-MIDDLE-DRAWER" type="prismatic">
    <parent link="ROOT_link"/>
    <child  link="ROOM602-KITCHEN-BODYSET8_link"/>
    <origin xyz="0.025 0.603 0.405" rpy="0 -0 0 "/>
    <axis   xyz="1 0 0"/>
    <limit lower="0" upper="0.63" effort="100" velocity="0.01" />
    <dynamics damping="0.2" friction="0" />
  </joint>
  <transmission type="pr2_mechanism_model/SimpleTransmission" name="RIGHT-MIDDLE-DRAWER_trans" >
    <actuator name="RIGHT-MIDDLE-DRAWER_motor" />
    <joint name="RIGHT-MIDDLE-DRAWER" />
    <mechanicalReduction>1</mechanicalReduction>
  </transmission>
  <gazebo reference="RIGHT-MIDDLE-DRAWER">
    <cfmDamping>0.4</cfmDamping>
  </gazebo>
  <joint name="RIGHT-SIDE-DOOR" type="revolute">
    <parent link="ROOT_link"/>
    <child  link="ROOM602-KITCHEN-BODYSET5_link"/>
    <origin xyz="0.315 1.123 0.06" rpy="0 -0 0 "/>
    <axis   xyz="0 0 1"/>
    <limit lower="0" upper="1.5708" effort="100" velocity="0.5" />
    <dynamics damping="0.2" friction="0" />
  </joint>
  <transmission type="pr2_mechanism_model/SimpleTransmission" name="RIGHT-SIDE-DOOR_trans" >
    <actuator name="RIGHT-SIDE-DOOR_motor" />
    <joint name="RIGHT-SIDE-DOOR" />
    <mechanicalReduction>1</mechanicalReduction>
  </transmission>
  <gazebo reference="RIGHT-SIDE-DOOR">
    <cfmDamping>0.4</cfmDamping>
  </gazebo>
  <joint name="TAP-HANDLE-JOINT" type="revolute">
    <parent link="ROOT_link"/>
    <child  link="TAP-HANDLE-BODY_link"/>
    <origin xyz="-0.0826664 1.11267 1.00531" rpy="1.26878e-07 -0.488693 -0.785399 "/>
    <axis   xyz="0 1 0"/>
    <limit lower="-1.5708" upper="1.5708" effort="100" velocity="0.5" />
    <dynamics damping="0.2" friction="0" />
  </joint>
  <transmission type="pr2_mechanism_model/SimpleTransmission" name="TAP-HANDLE-JOINT_trans" >
    <actuator name="TAP-HANDLE-JOINT_motor" />
    <joint name="TAP-HANDLE-JOINT" />
    <mechanicalReduction>1</mechanicalReduction>
  </transmission>
  <gazebo reference="TAP-HANDLE-JOINT">
    <cfmDamping>0.4</cfmDamping>
  </gazebo>
  <joint name="TAP-TUBE-JOINT" type="revolute">
    <parent link="ROOT_link"/>
    <child  link="TAP-TUBE_link"/>
    <origin xyz="-0.09 1.12 0.84" rpy="0 0 -1.5708 "/>
    <axis   xyz="0 0 1"/>
    <limit lower="-1.5708" upper="1.5708" effort="100" velocity="0.5" />
    <dynamics damping="0.2" friction="0" />
  </joint>
  <transmission type="pr2_mechanism_model/SimpleTransmission" name="TAP-TUBE-JOINT_trans" >
    <actuator name="TAP-TUBE-JOINT_motor" />
    <joint name="TAP-TUBE-JOINT" />
    <mechanicalReduction>1</mechanicalReduction>
  </transmission>
  <gazebo reference="TAP-TUBE-JOINT">
    <cfmDamping>0.4</cfmDamping>
  </gazebo>
</robot>
